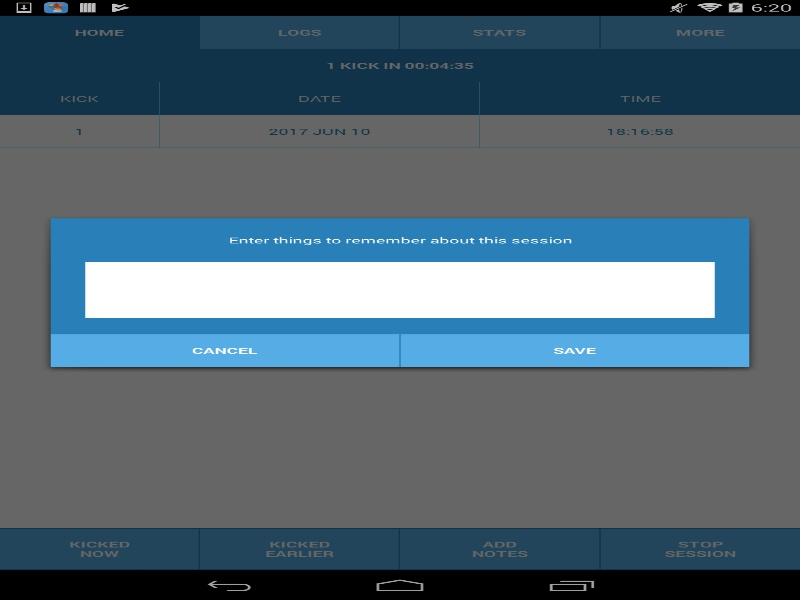Button: (50, 334, 399, 366), (400, 334, 749, 366)
Input: (85, 262, 714, 317)
